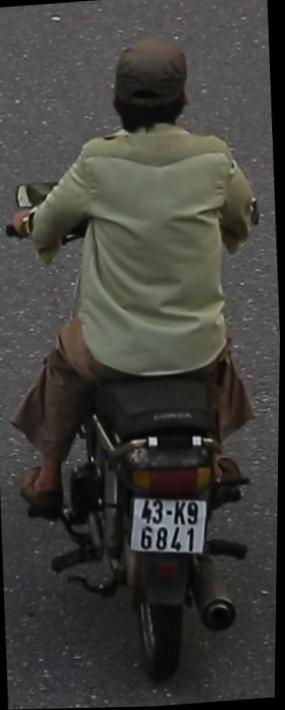LP: (125, 488, 214, 567)
no helmet: (102, 34, 196, 155)
